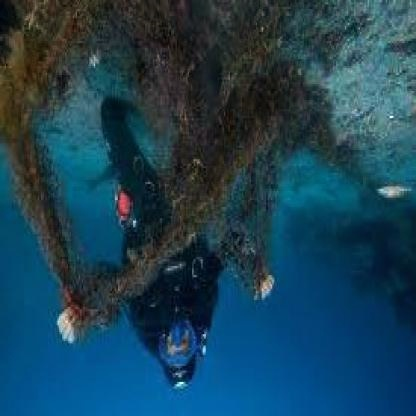net: (137, 0, 281, 293)
